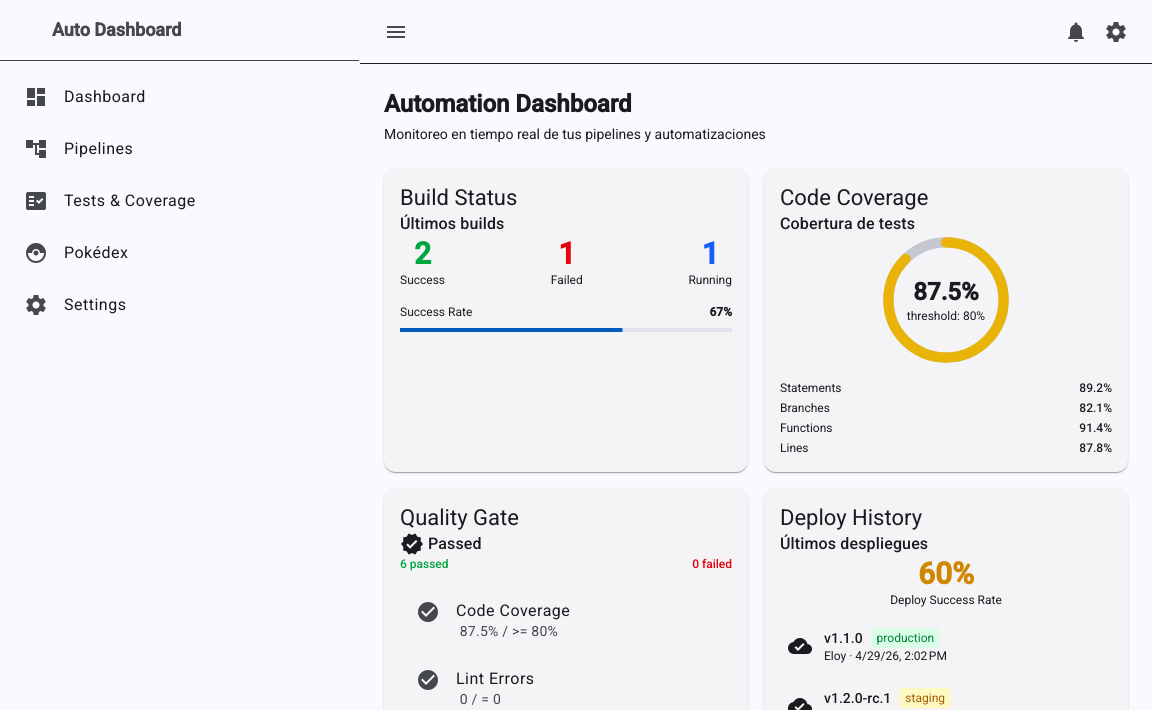
Test case: Dashboard › should navigate to settings page
Click the link "Settings" at (75,305), box [24,293,126,317]
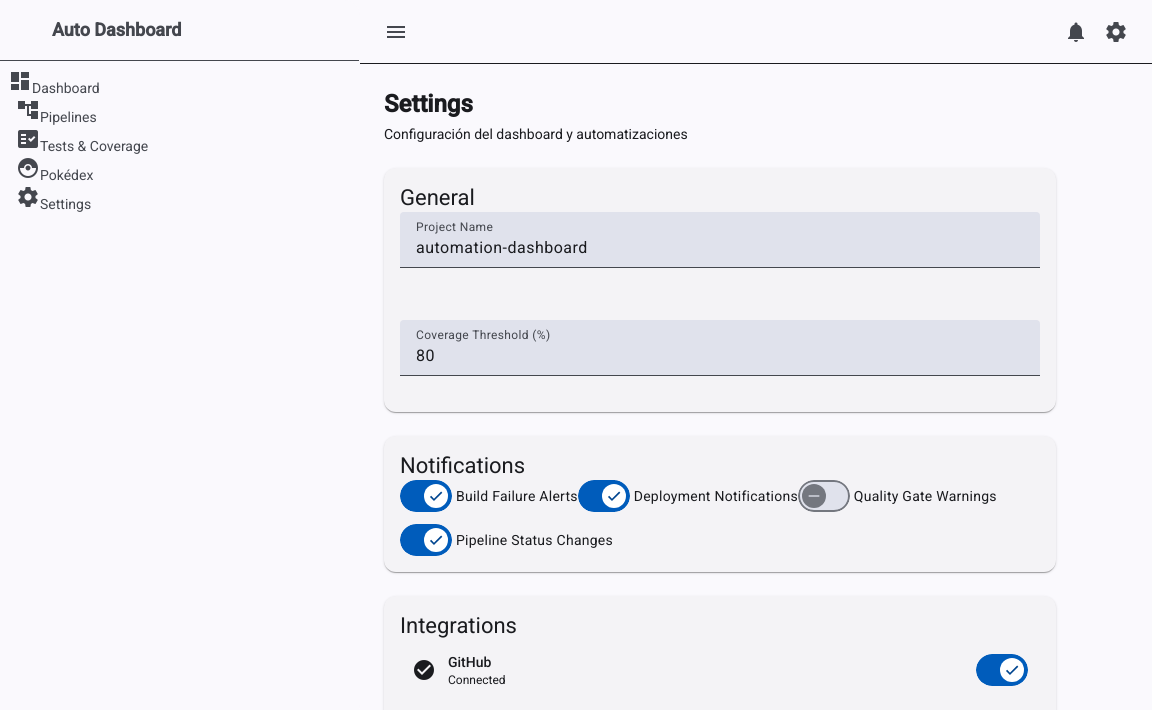
Result: the heading "Settings" is shown at [384,90,473,118]
